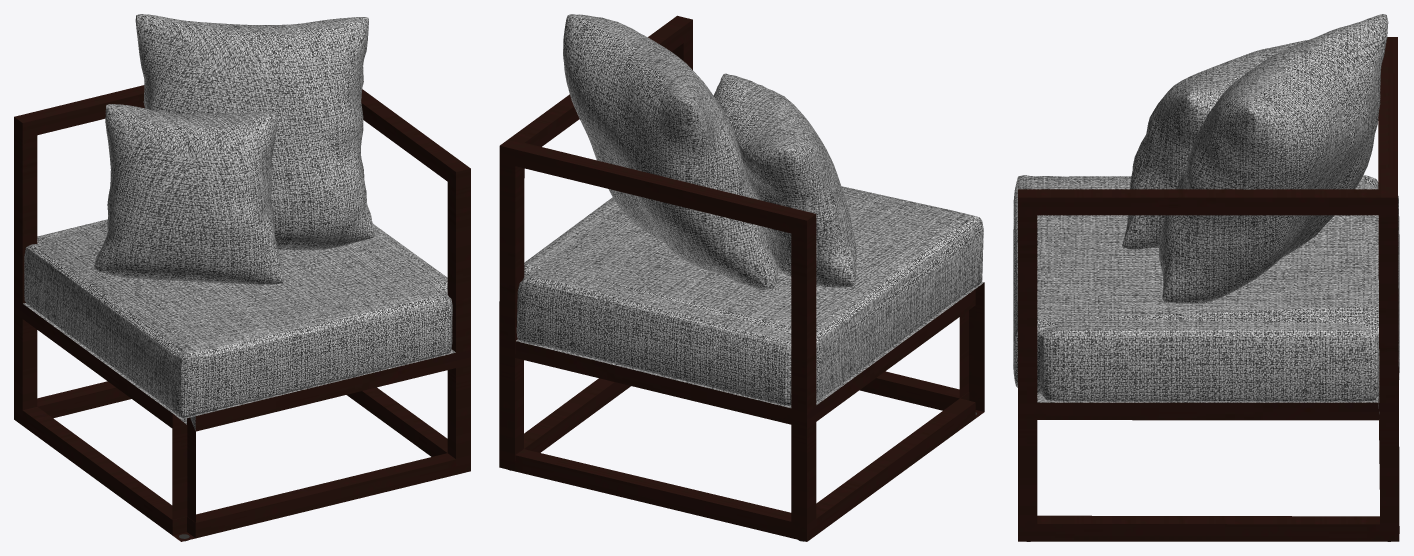
3 views of the same model, side by side, from view 1: azimuth 30°, elevation 25°; view 2: azimuth 150°, elevation 25°; view 3: azimuth 270°, elevation 25° (orthographic). The views are drawn at different scales.
Parts seen in each view (by area): view 1: C-skp361; view 2: C-skp361; view 3: C-skp361.
Boxes of the visible parts, x1=… form: C-skp361: x1=14, y1=14, x2=470, y2=541; C-skp361: x1=499, y1=14, x2=984, y2=541; C-skp361: x1=1013, y1=14, x2=1399, y2=541.
Bounding box in the file's own units: 0.6377 × 0.7959 × 0.6402.
3 materials, 2 textured.
